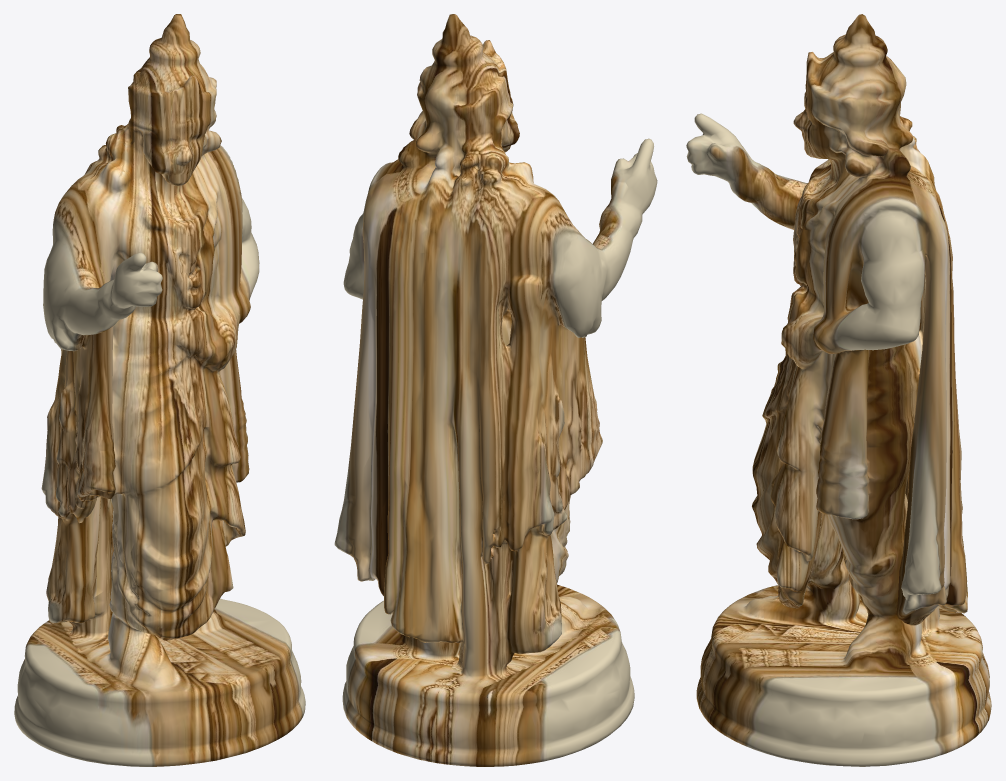
Rendered from mantri.glb.
3 renders of one model, left to right at view 1: azimuth 30°, elevation 25°; view 2: azimuth 150°, elevation 25°; view 3: azimuth 270°, elevation 25°, orthographic. The views are drawn at different scales.
Parts seen in each view (by area): view 1: geometry_0; view 2: geometry_0; view 3: geometry_0.
Boxes of the visible parts, x1,y1,x2,y2 form: geometry_0: (14,14,305,766); geometry_0: (334,14,657,766); geometry_0: (686,14,991,766).
Bounding box in the file's own units: 0.7547 × 1.97 × 0.7697.
Materials: 1 (1 with a texture image).
